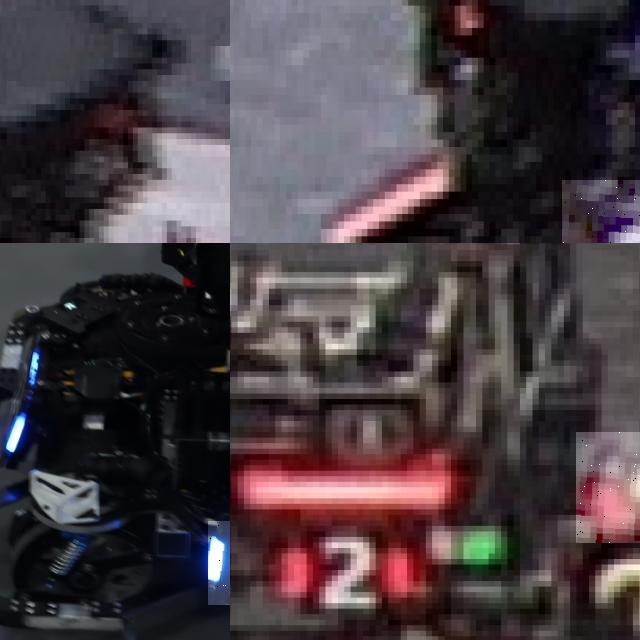R2: (256, 534, 426, 617), (576, 432, 640, 542)
R3: (562, 180, 640, 243)
